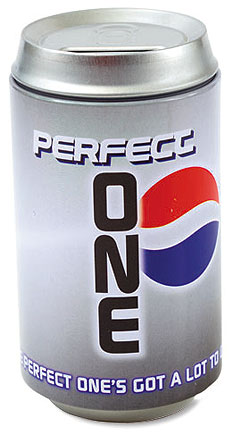Can: (10, 6, 223, 424)
